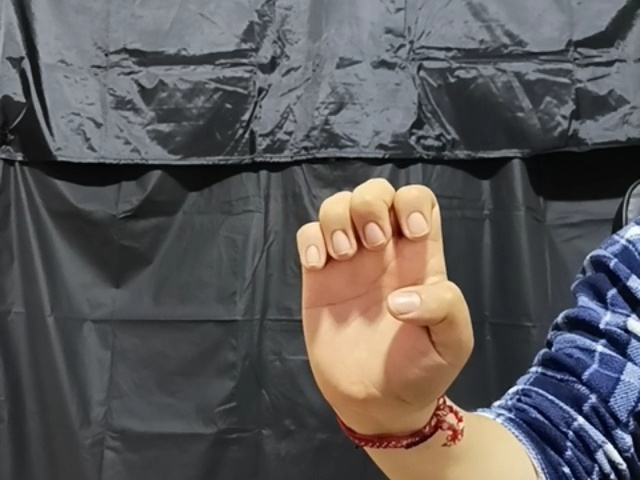E: (285, 175, 484, 421)
